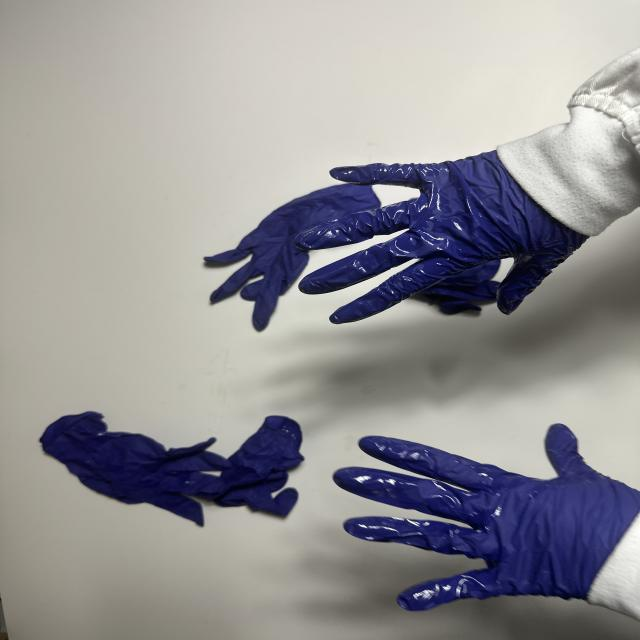gloves_contaminated: (334, 424, 640, 610), (296, 152, 586, 323)
